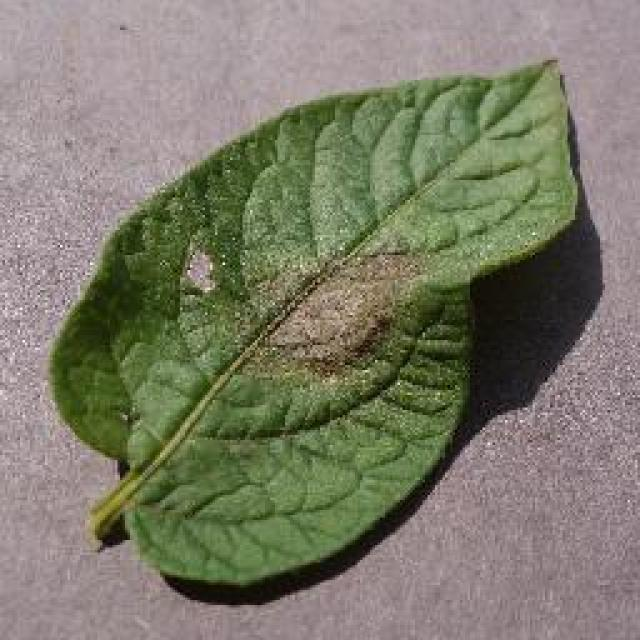late_blight: (42, 55, 582, 603)
